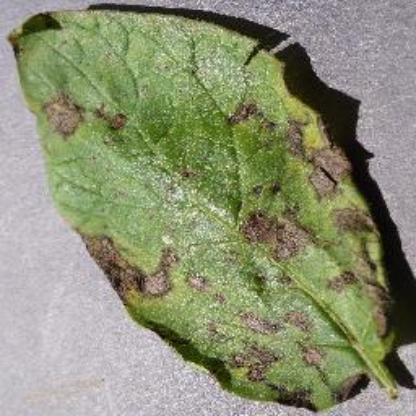Early-Blight: (6, 9, 406, 405)
